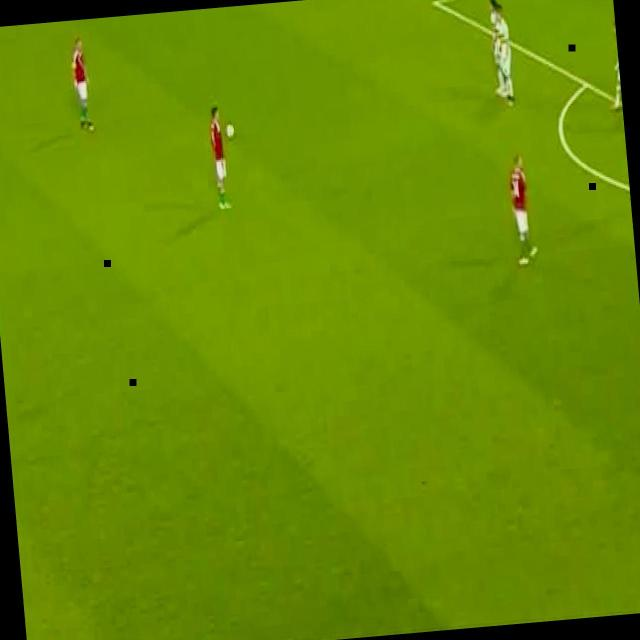ball: (226, 124, 234, 138)
player-white: (507, 153, 539, 265), (68, 37, 96, 135), (208, 105, 232, 211), (488, 0, 508, 100), (496, 8, 516, 104), (606, 20, 623, 111)
